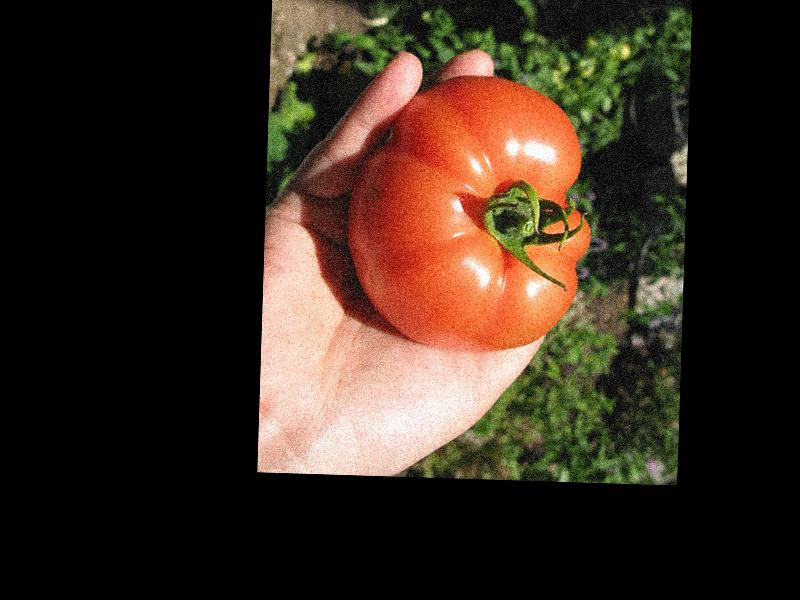Tomato: (348, 71, 595, 353)
